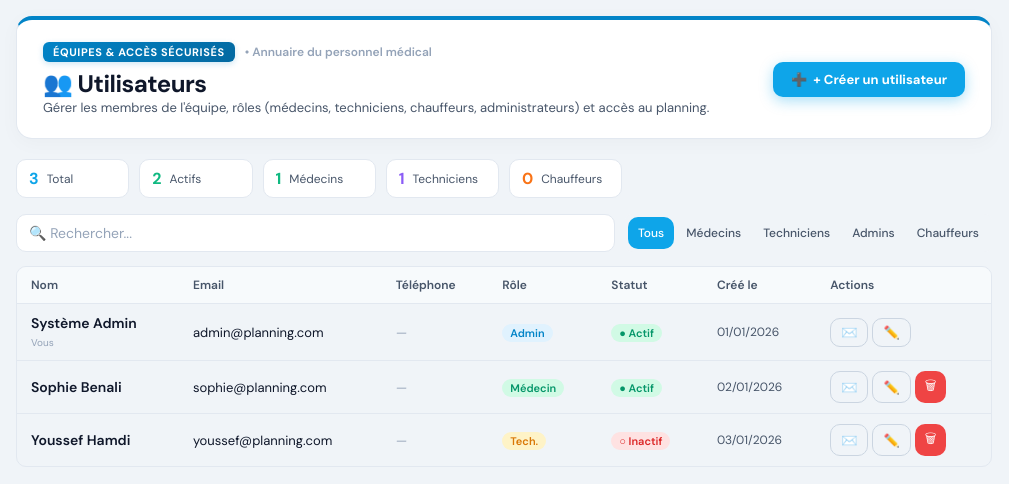
Test: Users page › filters by role
Check: the text "Sophie" is shown, box [31,378,77,396]
Click the button "Médecins" at (714, 233), box [676,217,751,249]
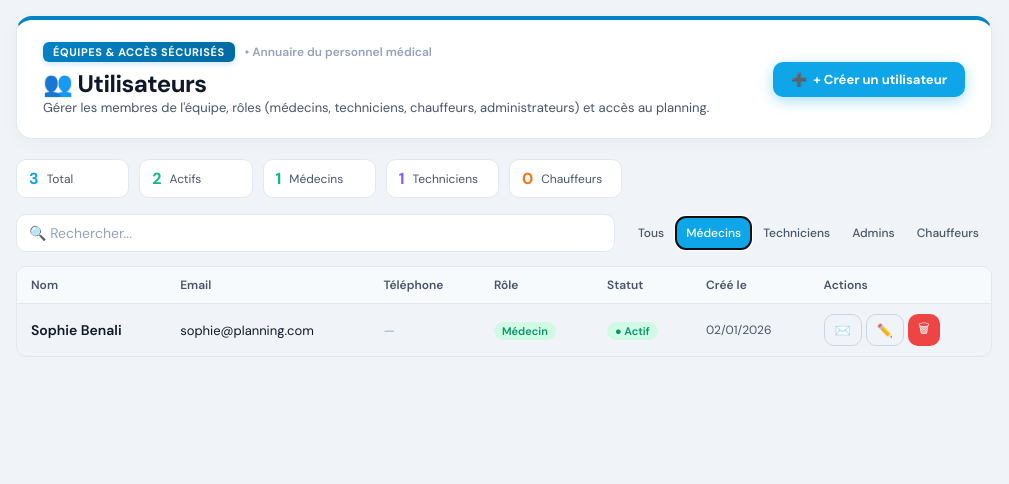
Check: the text "Sophie" is shown, box [31,321,77,339]
Check: the text "Youssef" is gone
